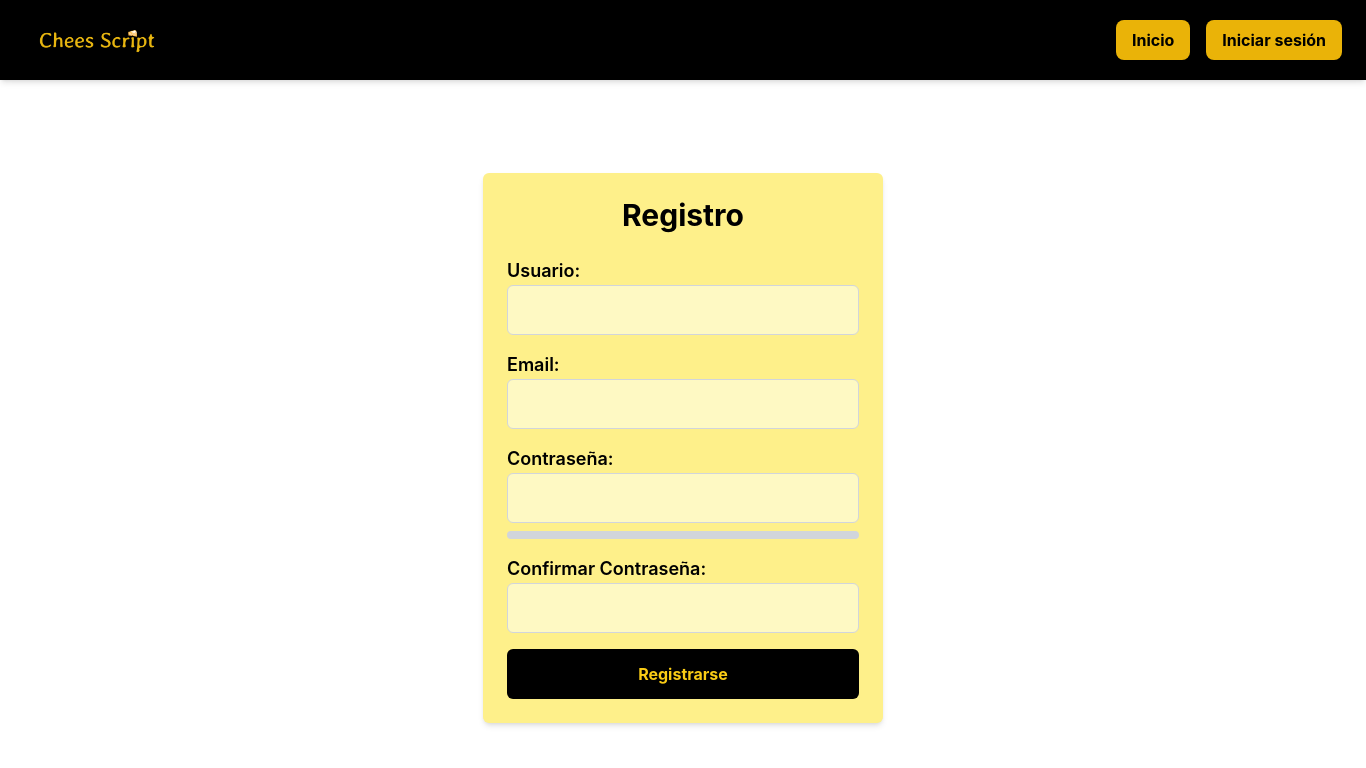
Flujo de registro de Usuario › Fallo por contraseña que no coinciden
Type "UsuarioTest" into the field named "username" below "Usuario:". click: {"x": 683, "y": 310}
box: [507, 285, 859, 335]
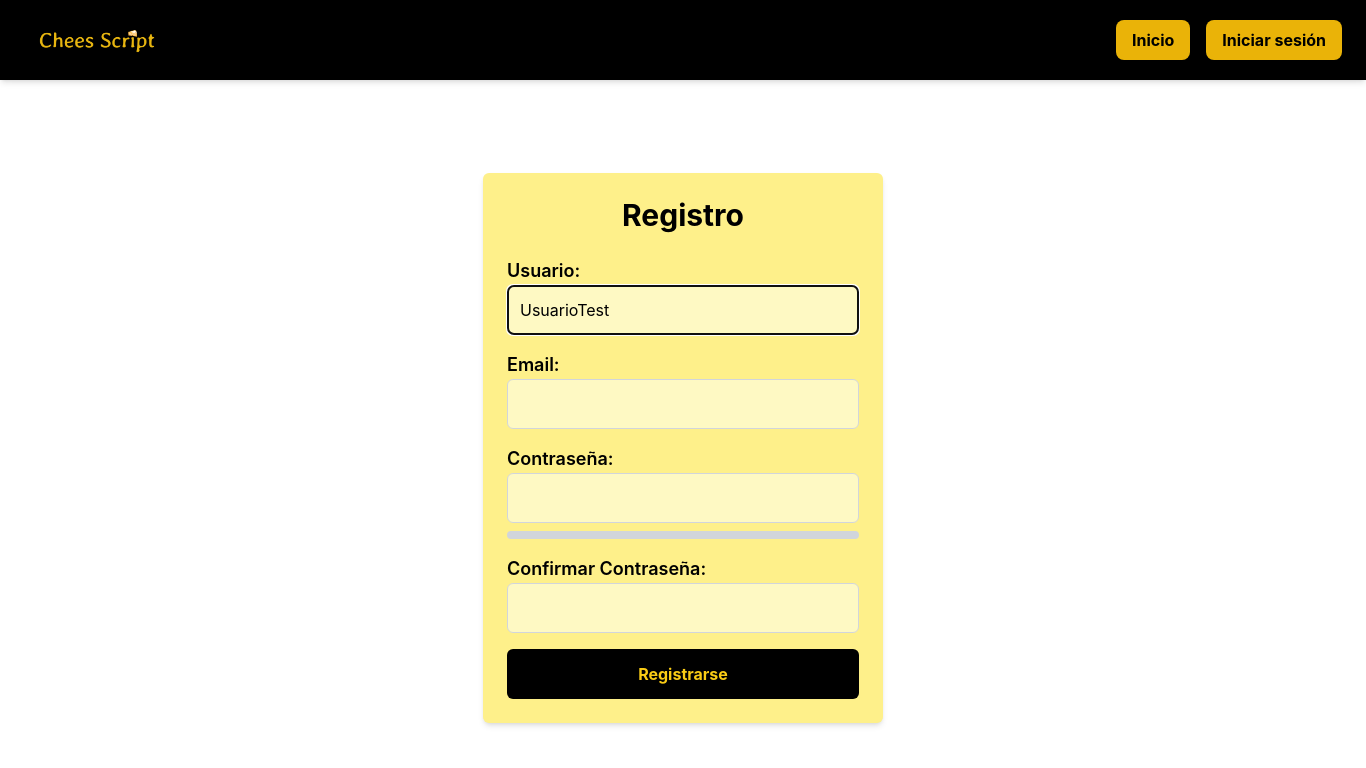
Type "nuevotest@gmail.com" into the field named "email" below "Email:". click: {"x": 683, "y": 404}
box: [507, 379, 859, 429]
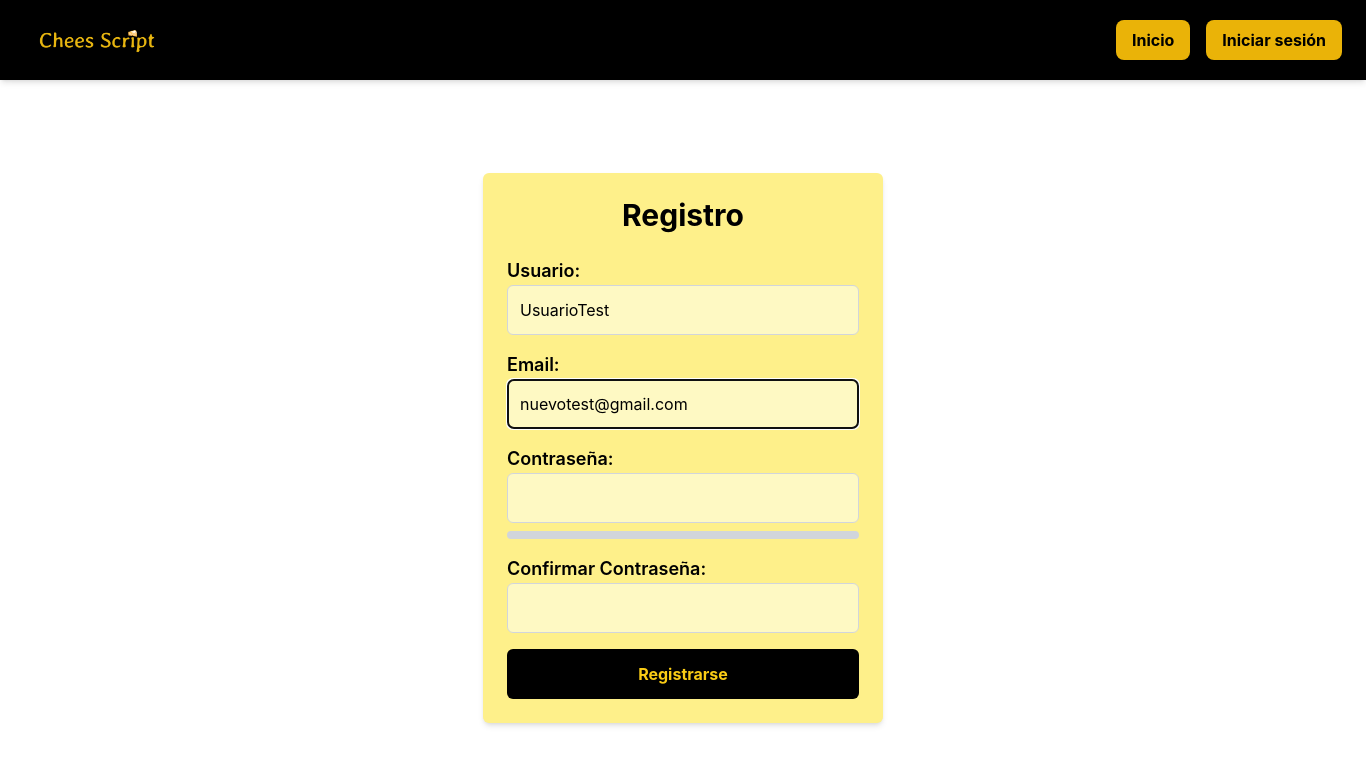
Type "contraseñaSegura123_" into the 1st password field named "password". click: {"x": 683, "y": 498}
box: [507, 473, 859, 523]
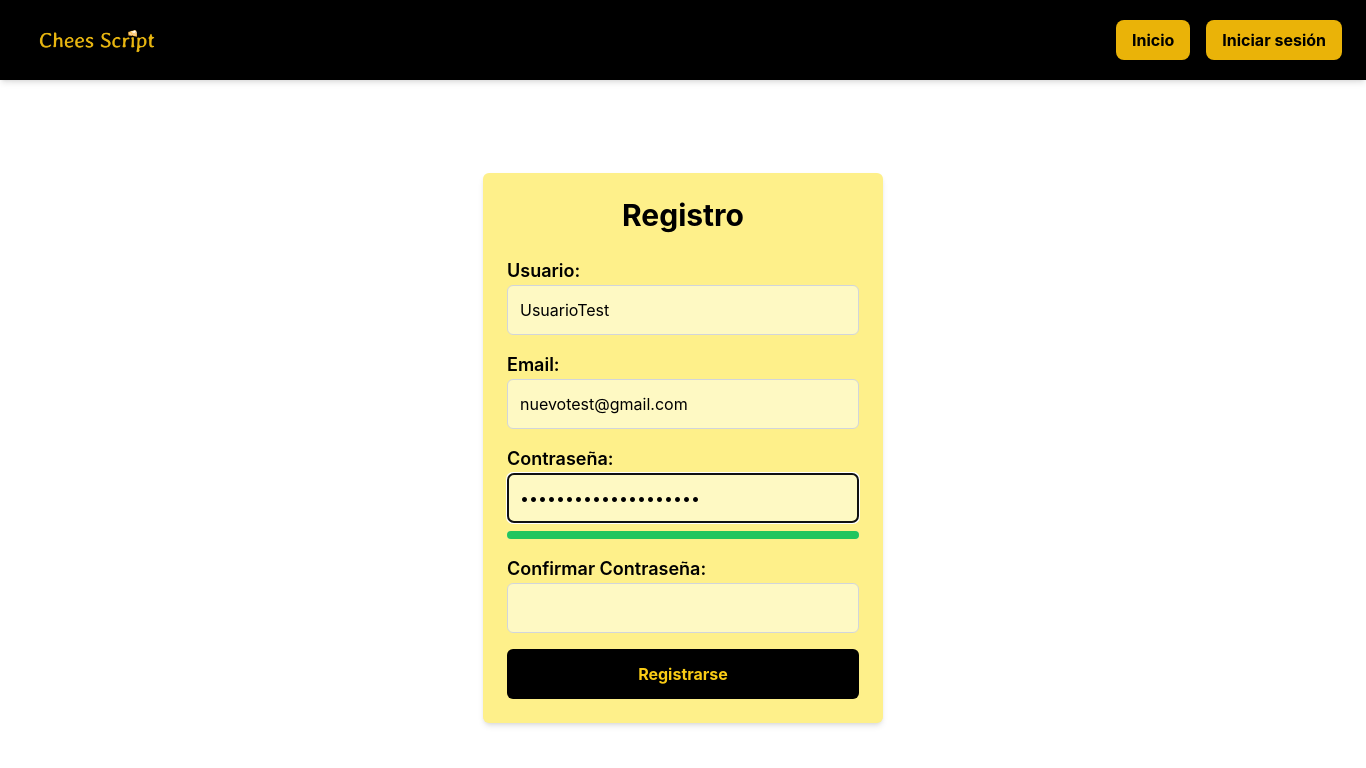
Type "contraseñamala" into the password field named "confirmPassword" below "Confirmar Contraseña:". click: {"x": 683, "y": 608}
box: [507, 583, 859, 633]
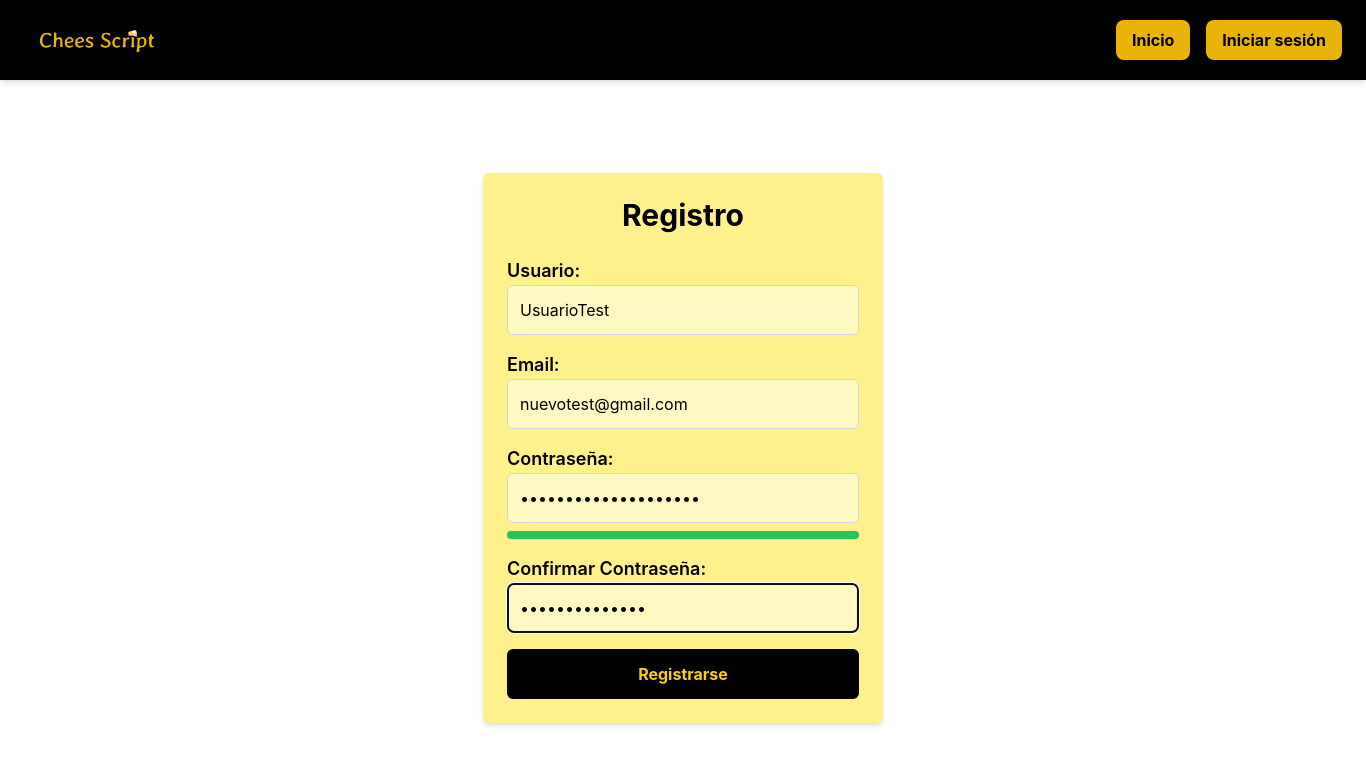
Click the submit button. click: {"x": 683, "y": 674}
box: [507, 649, 859, 699]
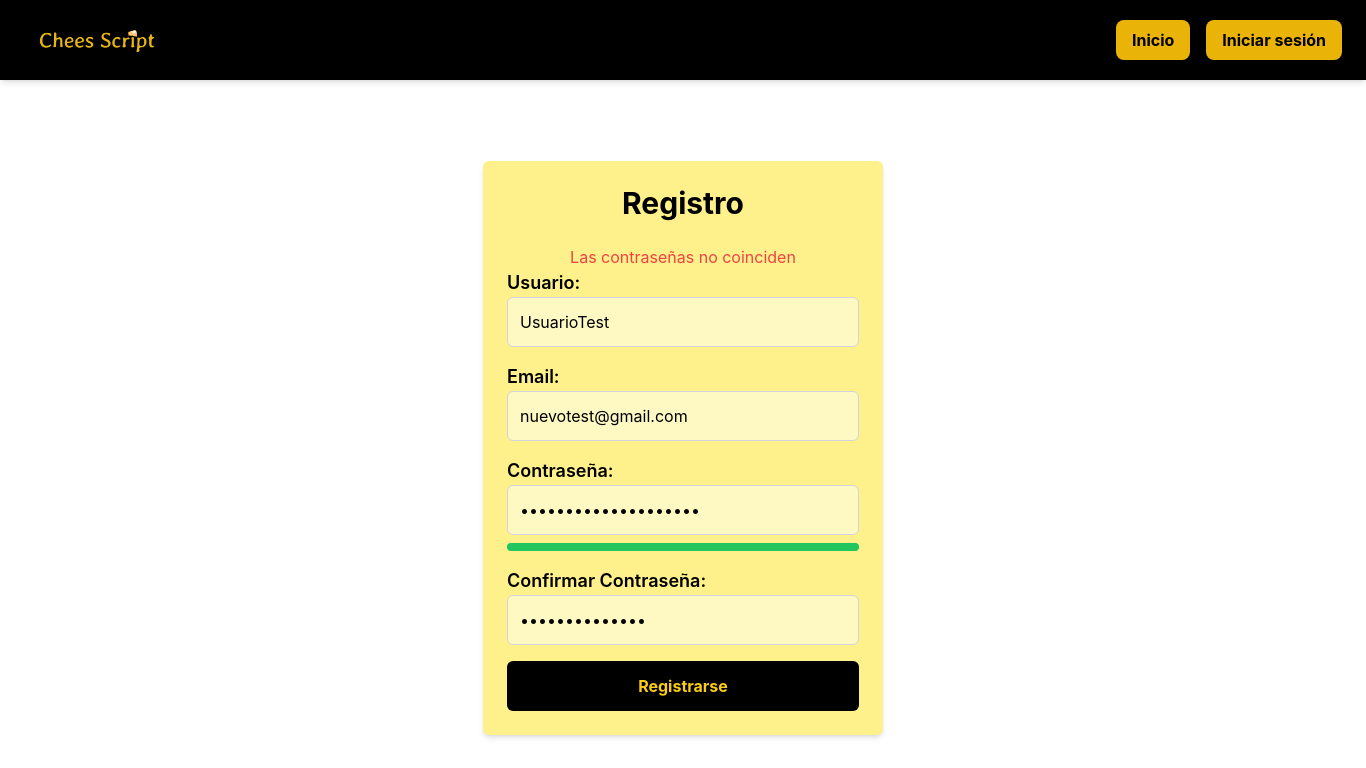
Result: the text "Las contraseñas no coinciden" is shown at [570, 247, 796, 267]
